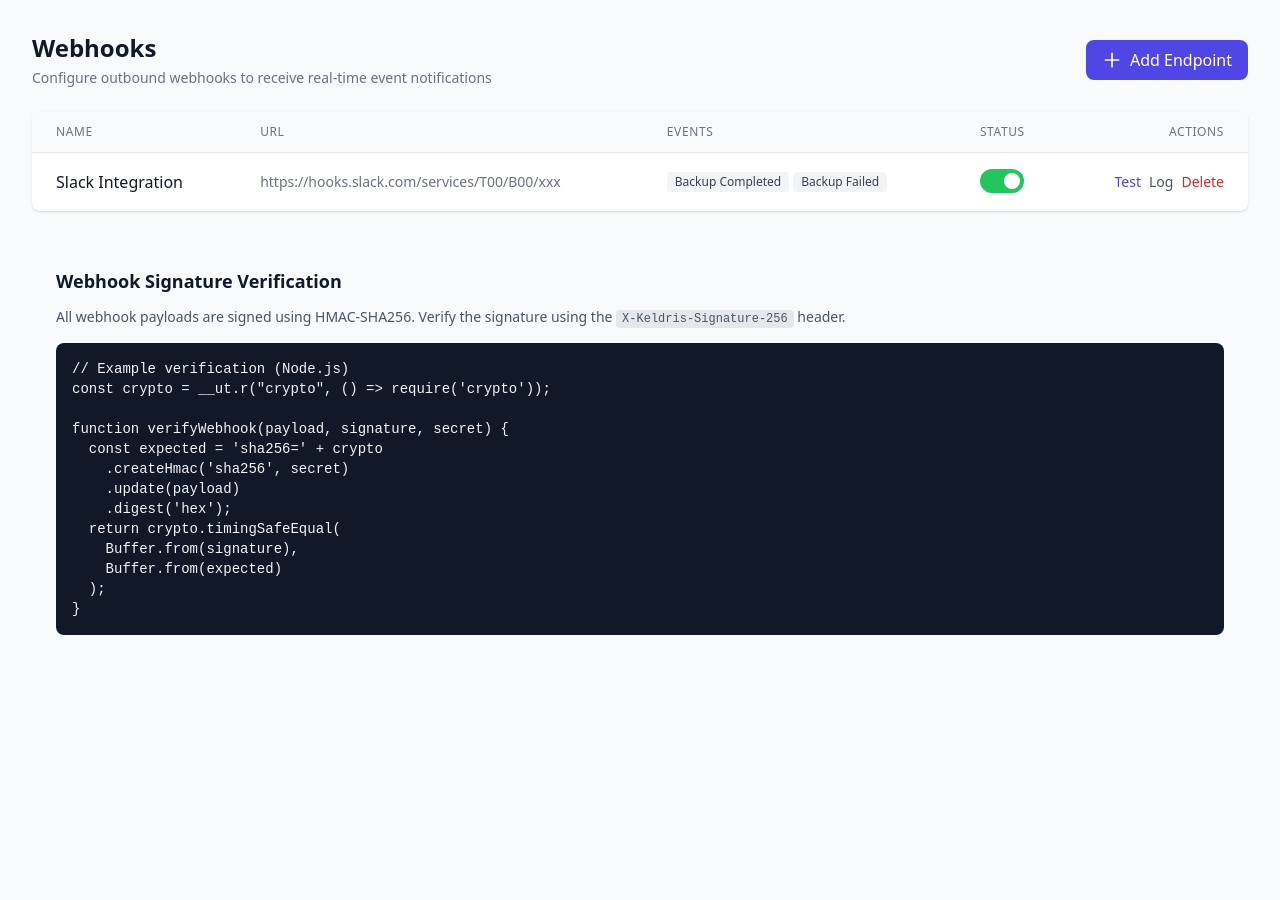
Test: Webhooks › opens delivery log modal on Log click
The width and height of the screenshot is (1280, 900).
Click the button "Log". click: (1161, 182)
box: left=1149, top=172, right=1173, bottom=192
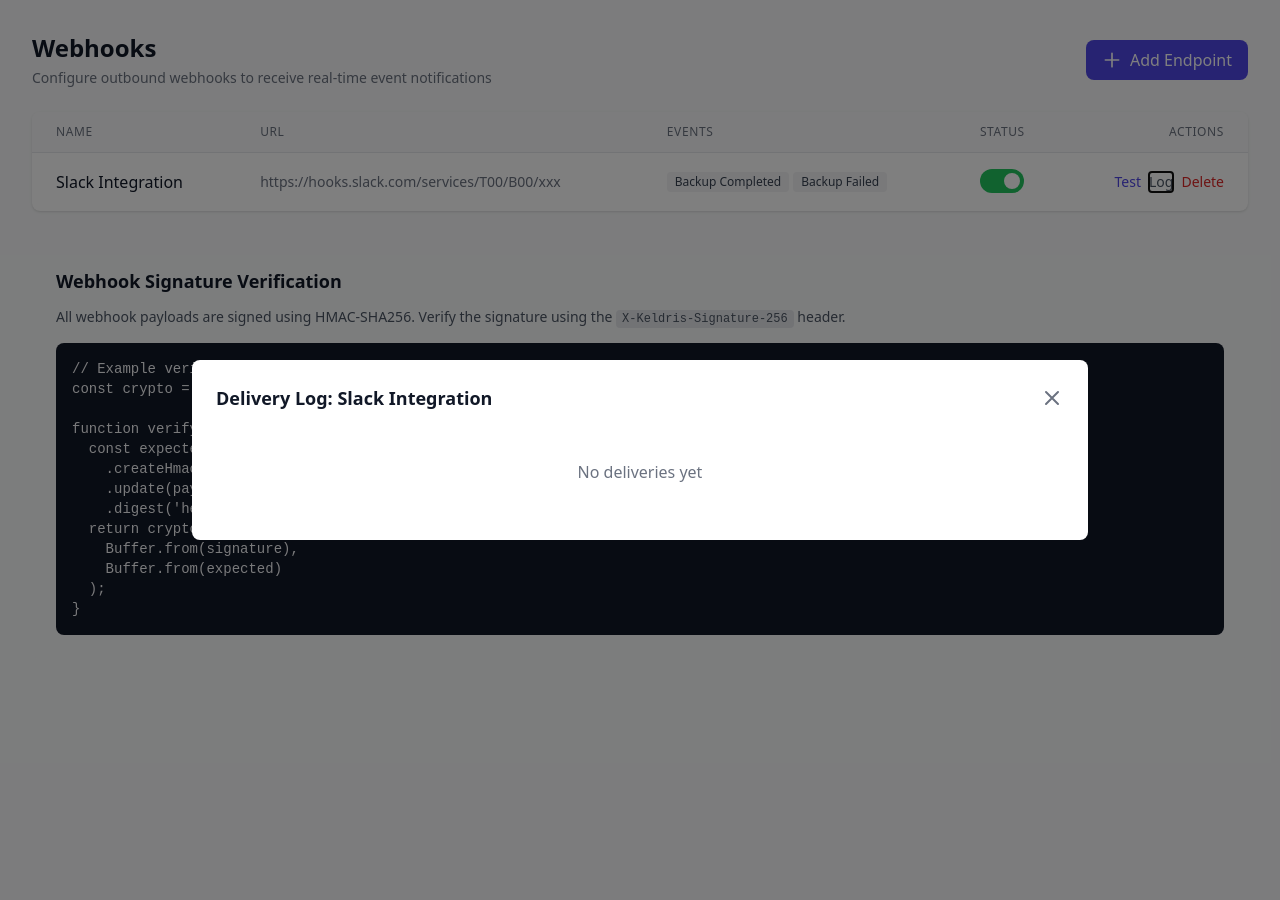
Result: the heading "Delivery Log: Slack Integration" is shown at left=216, top=384, right=492, bottom=412
